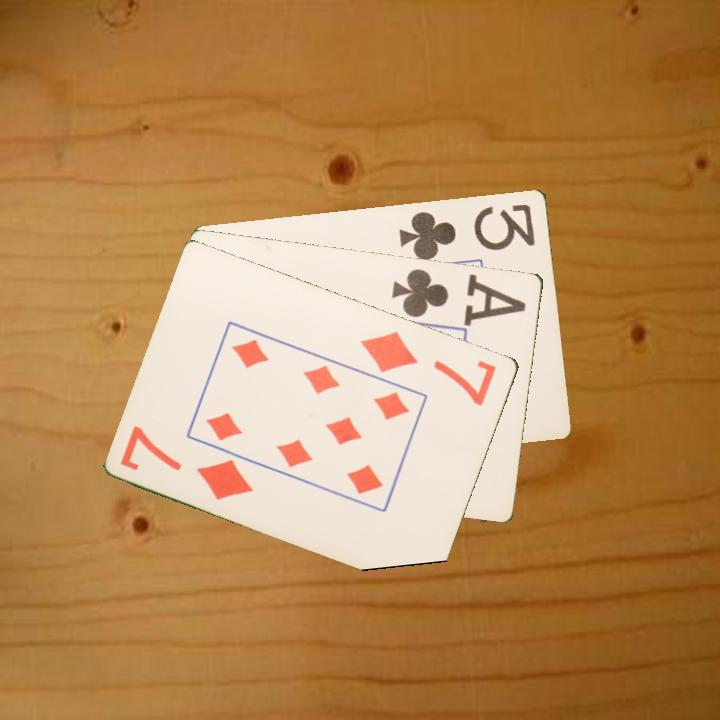3c: (396, 199, 538, 263)
7d: (357, 327, 500, 409), (117, 421, 257, 503)
Ac: (388, 264, 529, 327)
